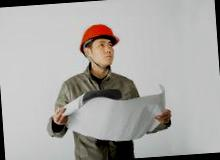helmet: (77, 20, 124, 49)
no_vest: (51, 77, 140, 160)
person: (46, 15, 144, 160)
